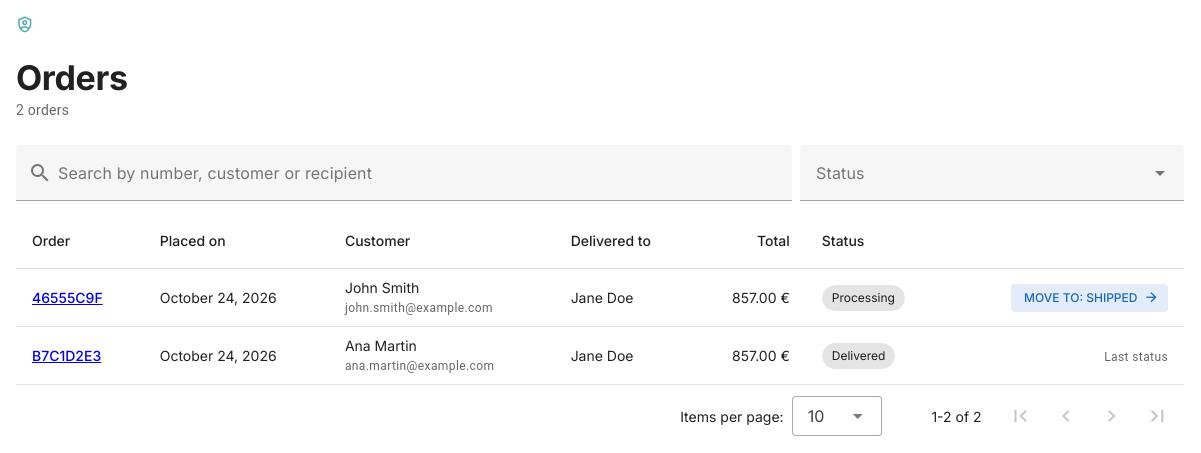
it: AdminOrders.vue › shows only the orders that match the search
This screenshot has width=1201, height=453.
Type "martin" into the field labelled "Search by number, customer or recipient" at {"x": 416, "y": 173}, box [52, 145, 780, 201]
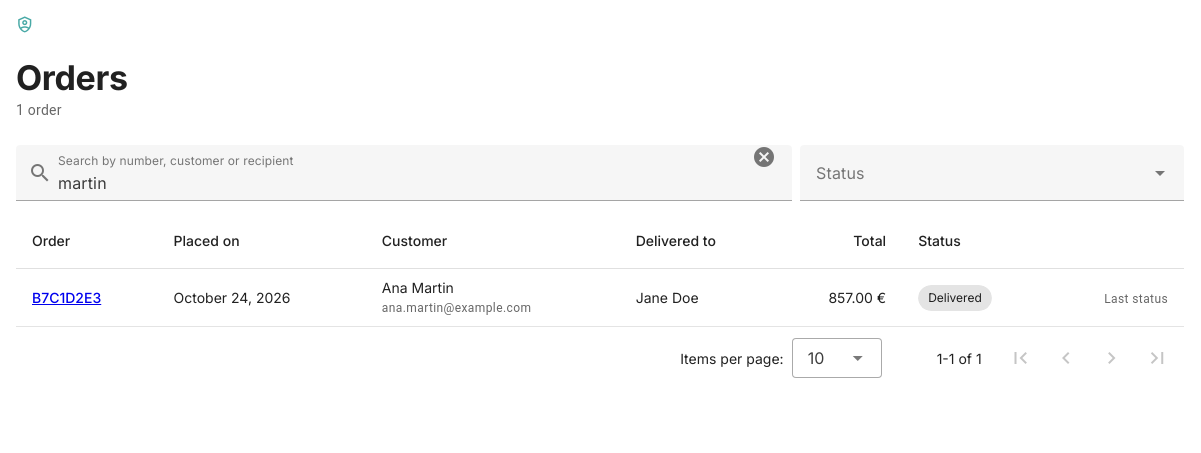
Check: the text "Ana Martin" is shown, box [382, 279, 454, 296]
Check: the text "1 order" is shown, box [16, 102, 62, 118]
Check: the text "John Smith" is gone
